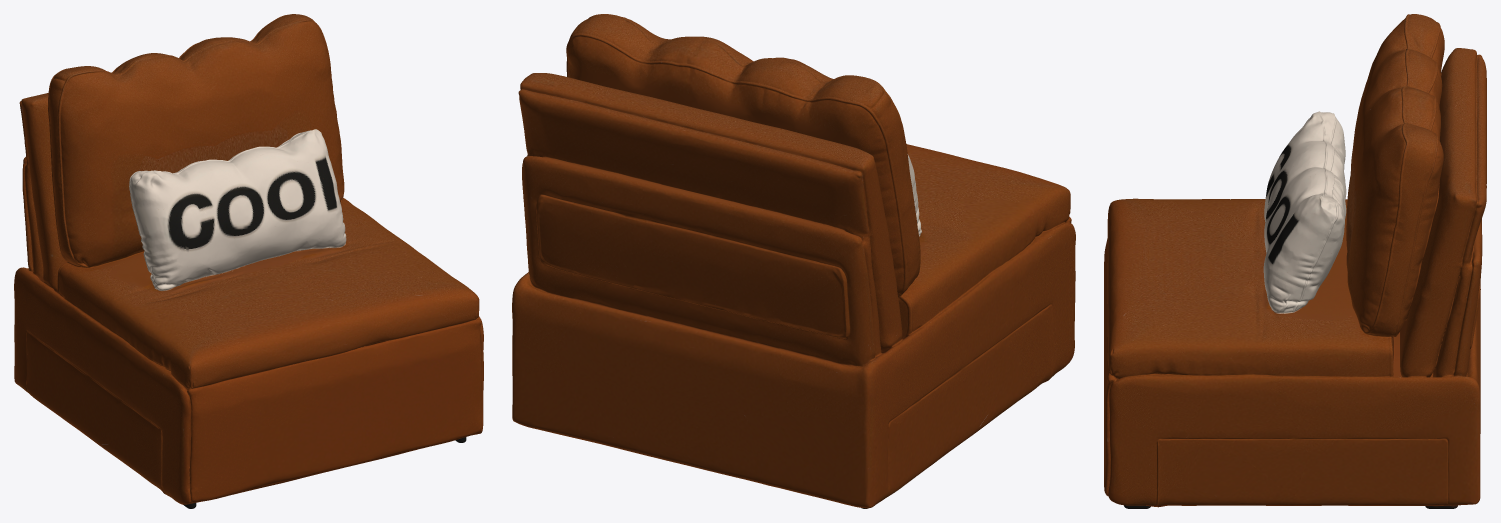
Rendered from meshy-13.glb.
3 views of the same model, side by side, from view 1: azimuth 30°, elevation 25°; view 2: azimuth 150°, elevation 25°; view 3: azimuth 270°, elevation 25° (orthographic). The views are drawn at different scales.
Parts seen in each view (by area): view 1: RealScale; view 2: RealScale; view 3: RealScale.
Part boxes in pixels (x1=…): RealScale: x1=14, y1=14, x2=483, y2=508; RealScale: x1=512, y1=14, x2=1075, y2=508; RealScale: x1=1104, y1=14, x2=1486, y2=508.
Bounding box in the file's own units: 0.7194 × 0.76 × 0.734.
1 material, 1 textured.
